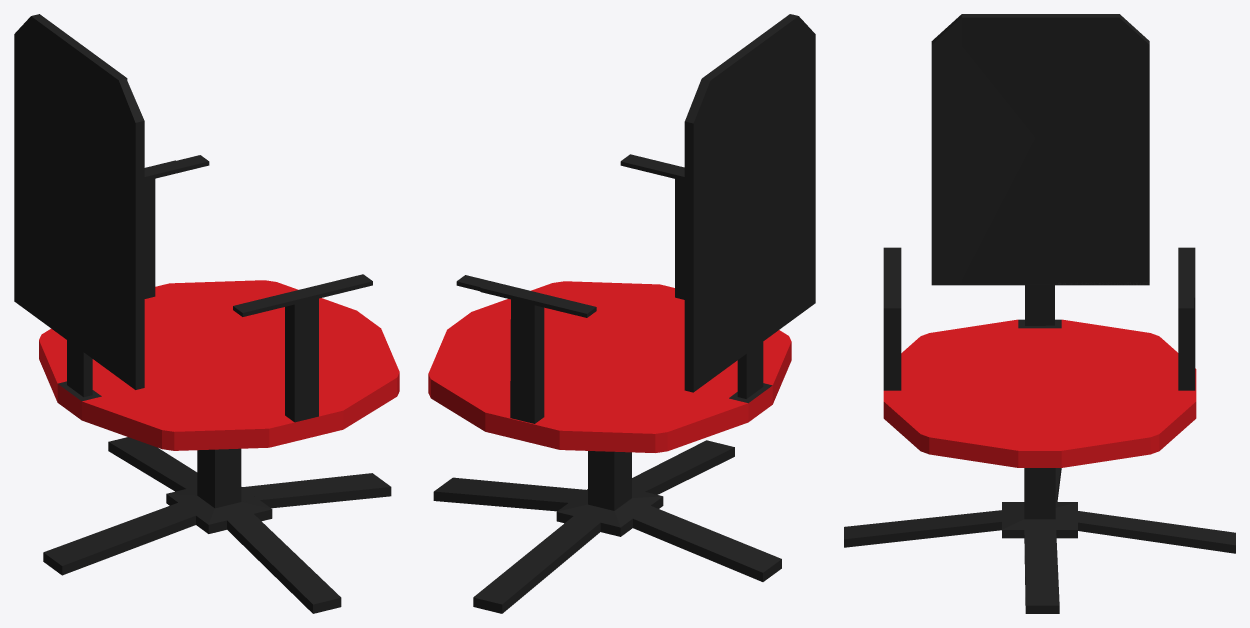
Rendered from Office Chair-red.glb.
The picture shows the model from 3 angles, left to right: view 1: azimuth 30°, elevation 25°; view 2: azimuth 150°, elevation 25°; view 3: azimuth 270°, elevation 25°; orthographic projection. The views are drawn at different scales.
Visible parts, largest first — view 1: Cube; view 2: Cube; view 3: Cube.
Boxes of the visible parts, <box> form: Cube: <box>14,14,399,613</box>; Cube: <box>428,14,815,613</box>; Cube: <box>844,14,1235,613</box>.
Bounding box in the file's own units: 1.74 × 2.62 × 2.
